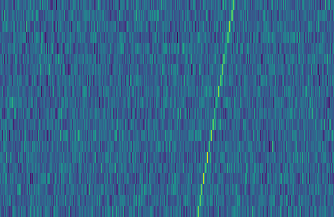signal: (193, 0, 240, 217)
